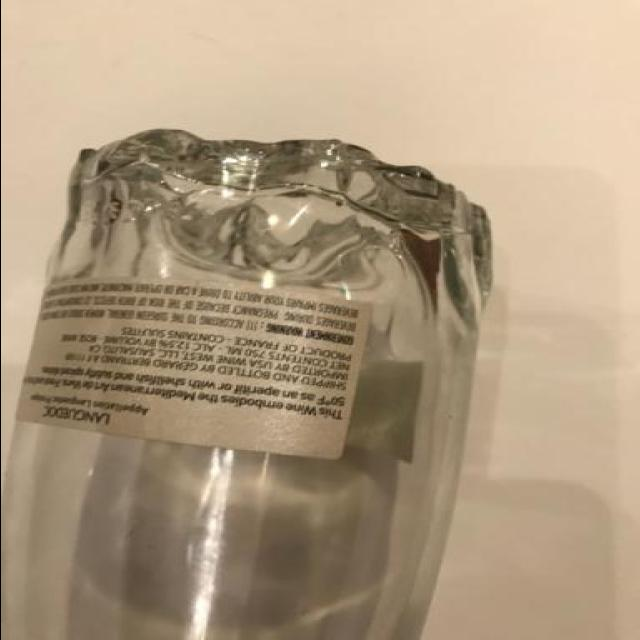glass: (0, 115, 515, 640)
